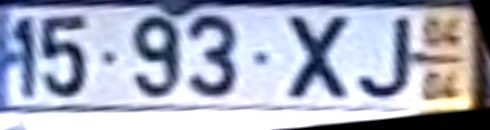1: (14, 19, 45, 102)
3: (188, 14, 245, 102)
5: (44, 16, 94, 102)
9: (133, 16, 187, 103)
J: (361, 17, 415, 102)
X: (287, 17, 356, 104)
